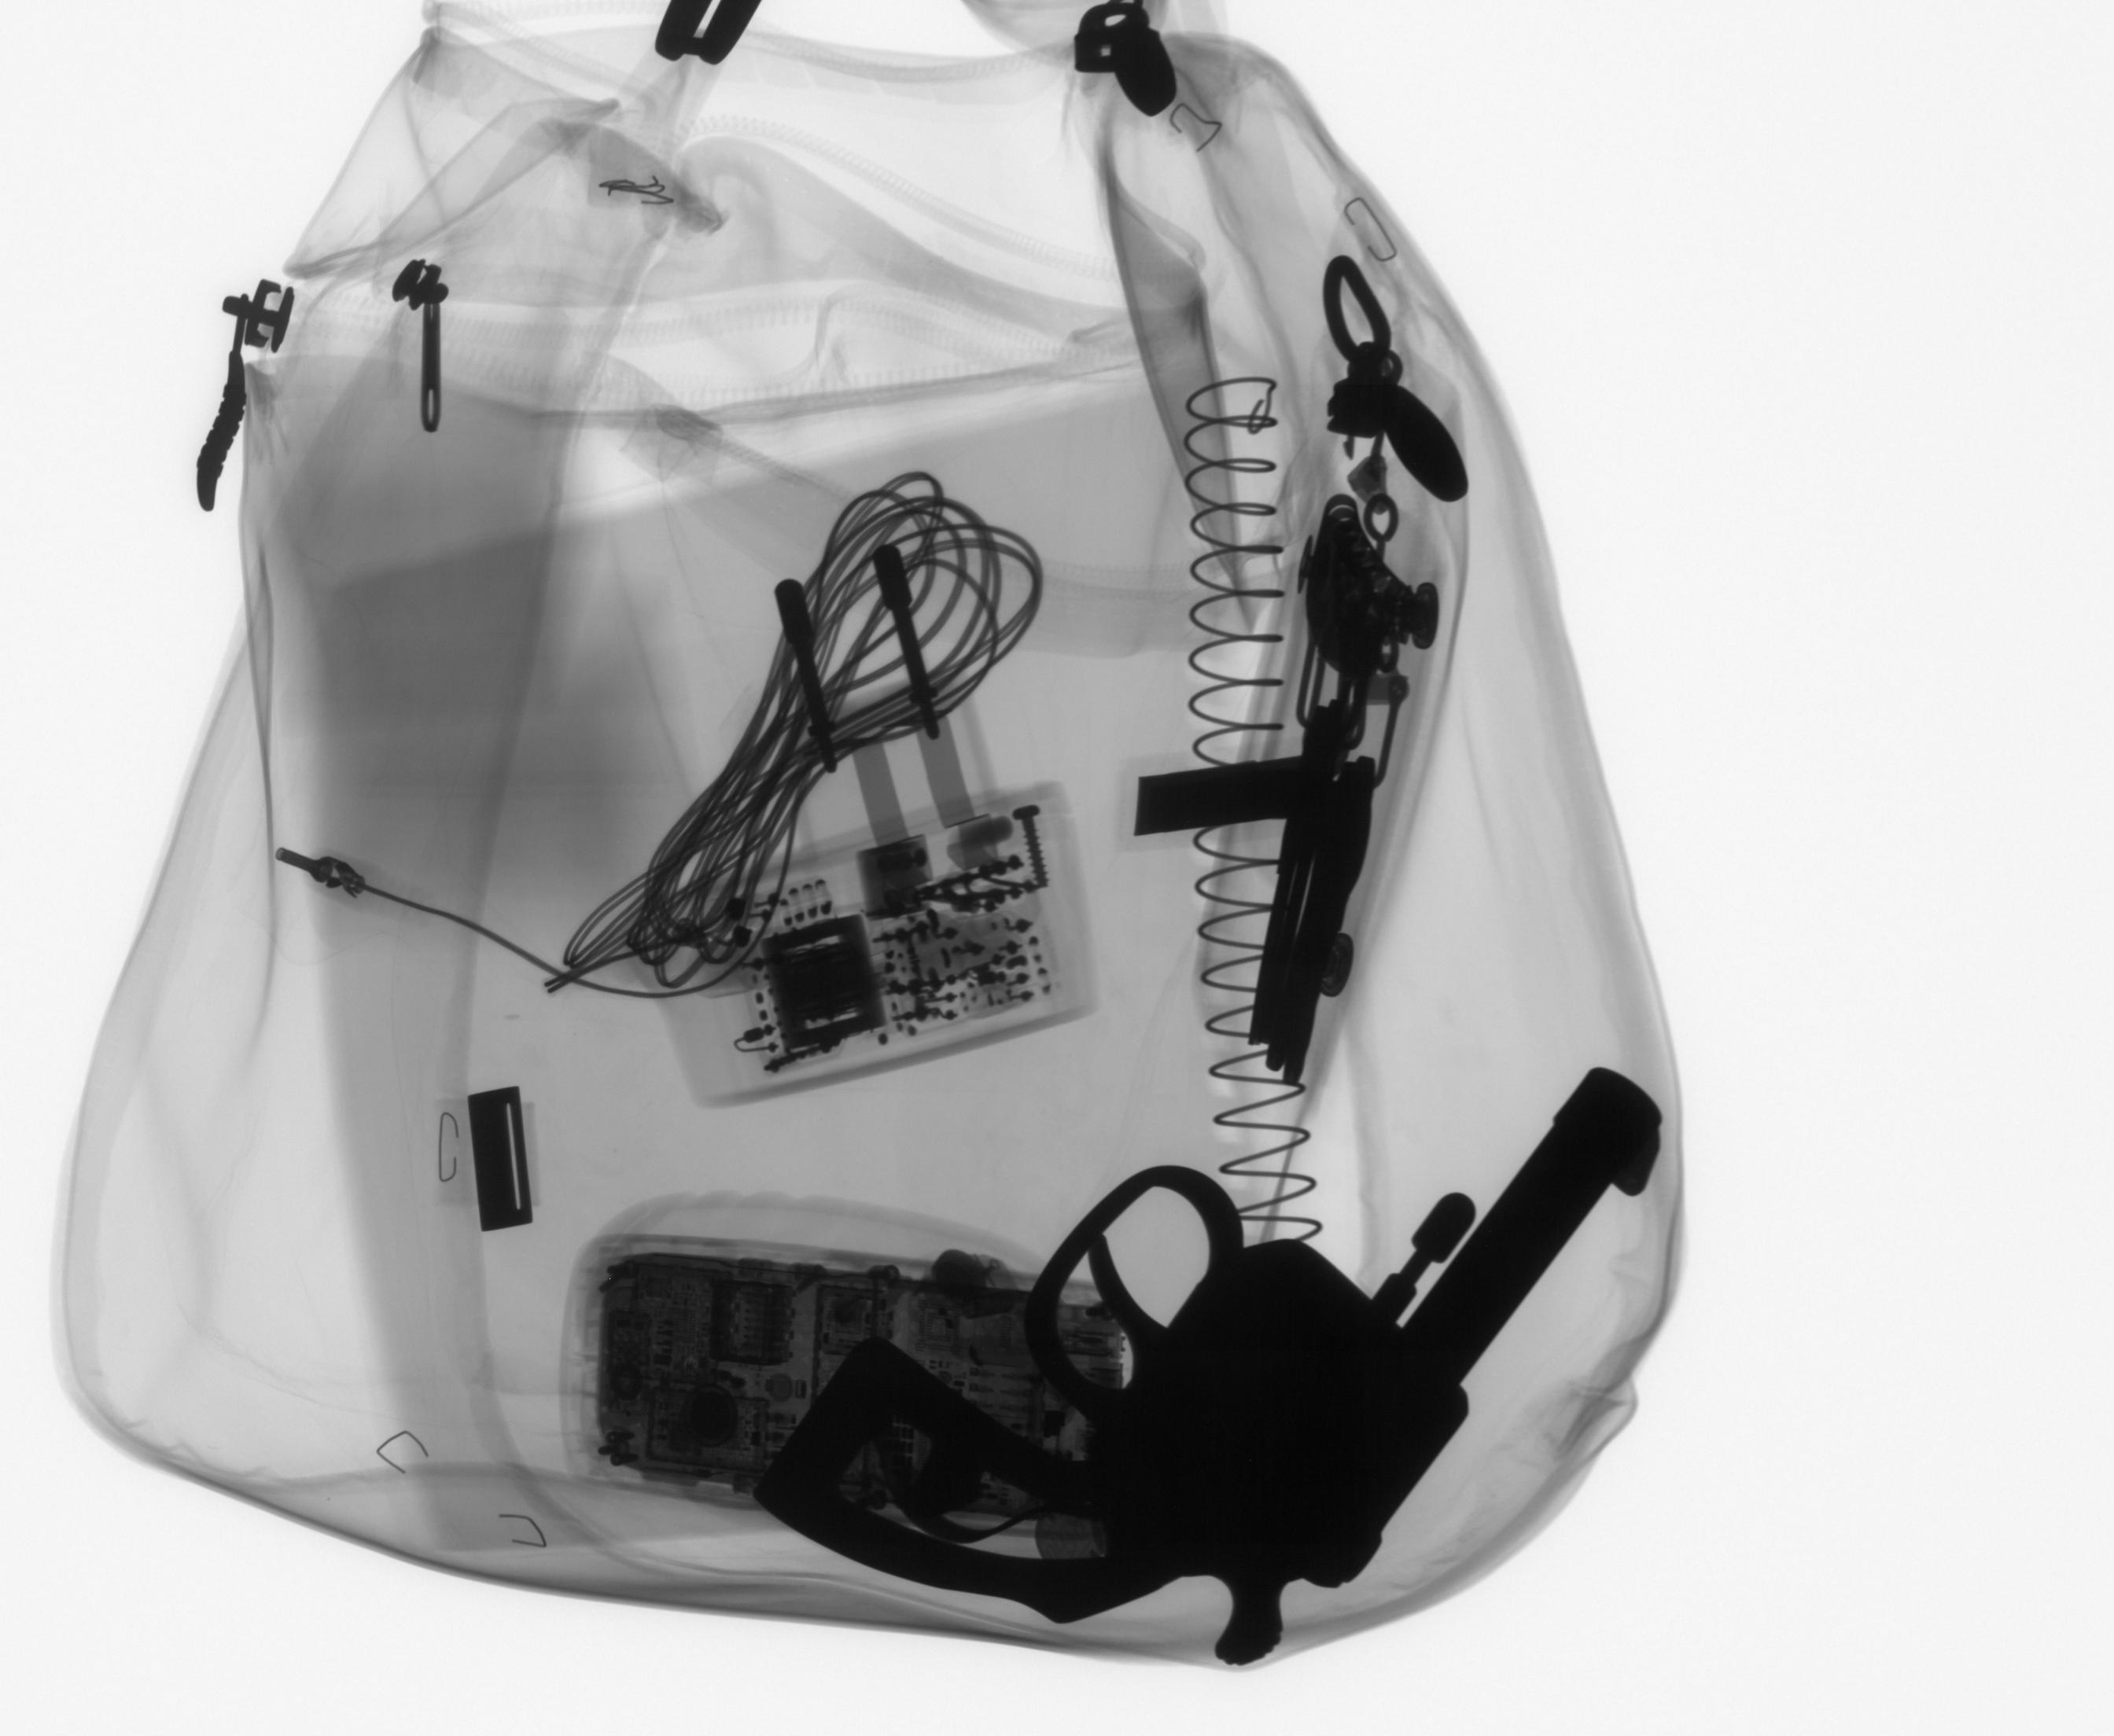Handgun: (741, 1060, 1674, 1676)
